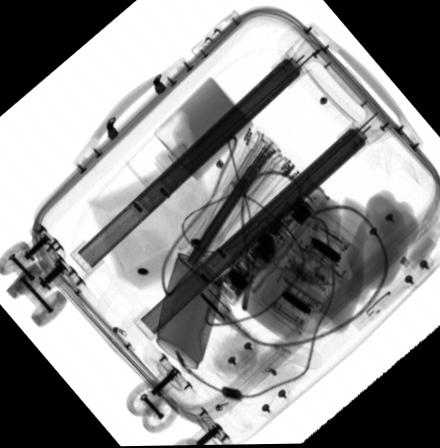Baton: (210, 185, 331, 308)
